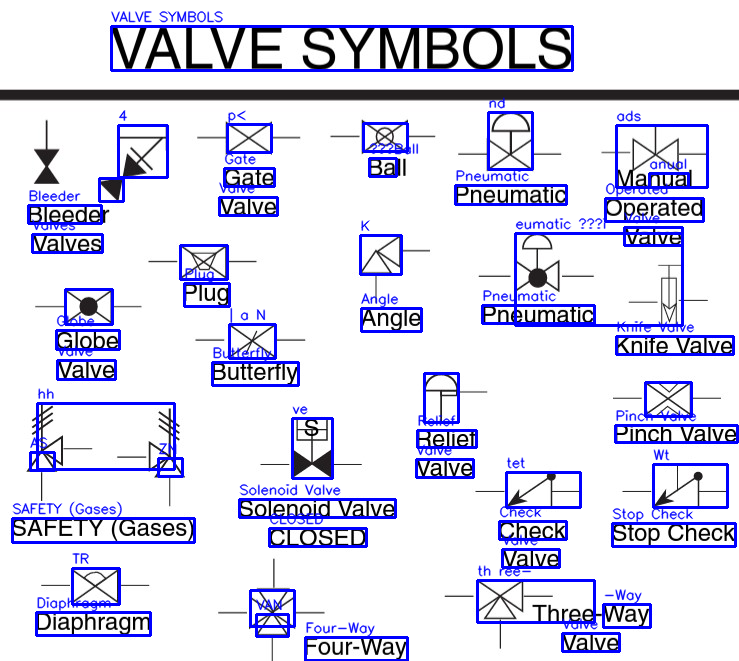Válvula: (213, 553, 328, 661), (439, 577, 555, 655), (475, 230, 598, 295), (114, 402, 187, 508), (25, 397, 95, 505), (256, 414, 367, 482), (456, 110, 564, 175), (97, 122, 173, 205), (623, 261, 712, 331), (615, 459, 731, 512), (597, 121, 712, 173), (358, 230, 434, 306), (468, 467, 587, 514), (607, 376, 727, 419), (326, 114, 442, 156), (38, 564, 152, 606), (190, 321, 309, 360), (145, 242, 261, 282), (31, 286, 147, 325), (194, 118, 303, 158), (421, 370, 489, 424), (29, 116, 65, 189)
